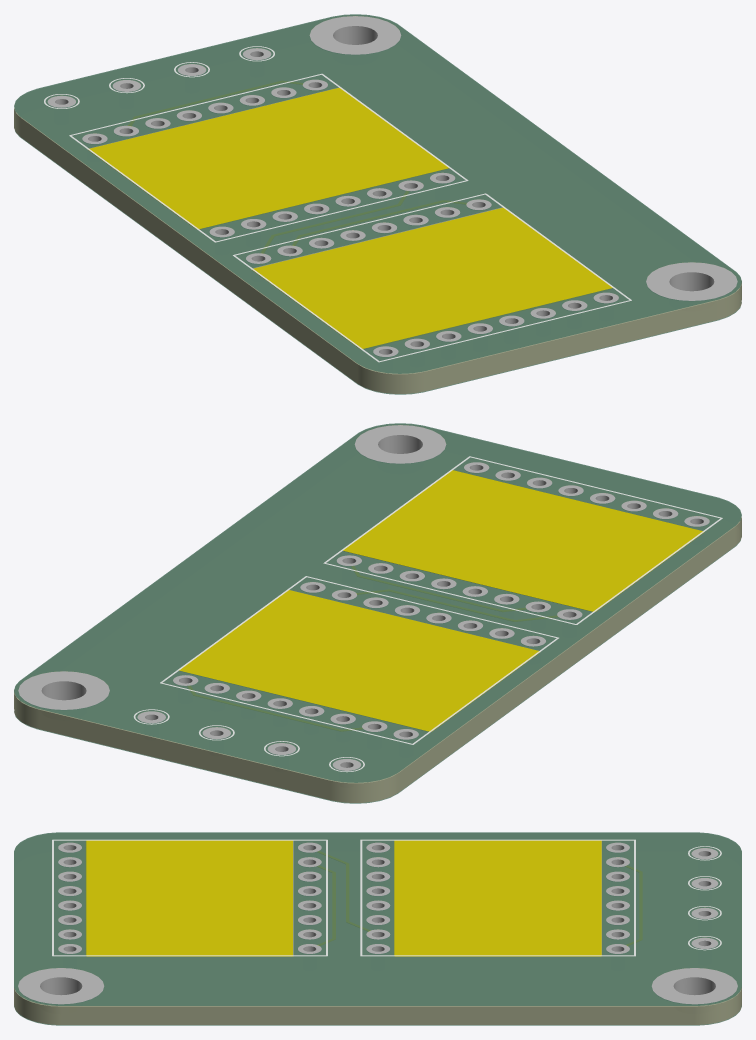
File: minibadge-klip-on-expansion-board.glb
3 renders of one model, top to bottom at view 1: azimuth 30°, elevation 25°; view 2: azimuth 150°, elevation 25°; view 3: azimuth 270°, elevation 25°, orthographic. The views are drawn at different scales.
Visible parts, largest first — view 1: =>[0:1:1:8], =>[0:1:1:6], =>[0:1:1:2], =>[0:1:1:4]; view 2: =>[0:1:1:8], =>[0:1:1:6], =>[0:1:1:2], =>[0:1:1:4]; view 3: =>[0:1:1:8], =>[0:1:1:6], =>[0:1:1:2], =>[0:1:1:4].
Part boxes in pixels (<box>): =>[0:1:1:8]: <box>14,15,741,393</box>; =>[0:1:1:6]: <box>14,14,741,394</box>; =>[0:1:1:2]: <box>47,16,737,356</box>; =>[0:1:1:4]: <box>44,46,631,362</box>; =>[0:1:1:8]: <box>14,424,741,802</box>; =>[0:1:1:6]: <box>14,423,741,803</box>; =>[0:1:1:2]: <box>18,425,709,770</box>; =>[0:1:1:4]: <box>133,456,722,772</box>; =>[0:1:1:8]: <box>14,833,741,1024</box>; =>[0:1:1:6]: <box>14,832,741,1025</box>; =>[0:1:1:2]: <box>18,840,737,1004</box>; =>[0:1:1:4]: <box>52,839,721,956</box>.
Size of the model in its own units: 0.0305 by 0.00166 by 0.054.
4 materials, 4 textured.
